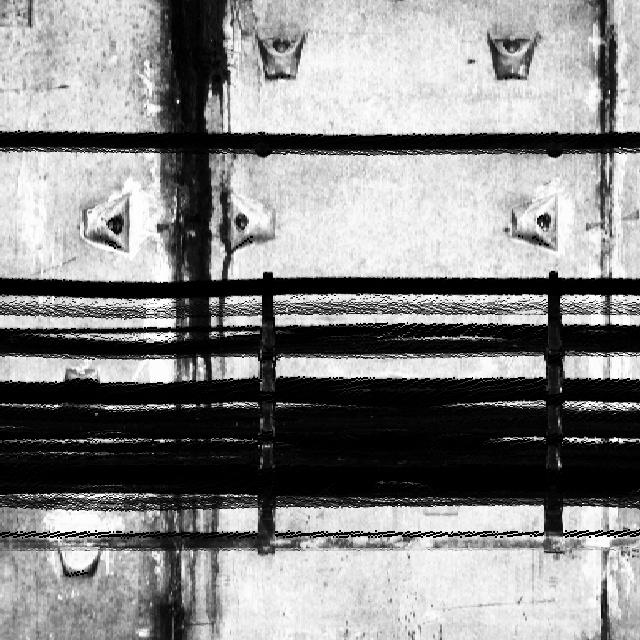leakage: (145, 0, 233, 384), (131, 494, 236, 639), (584, 0, 630, 269)
